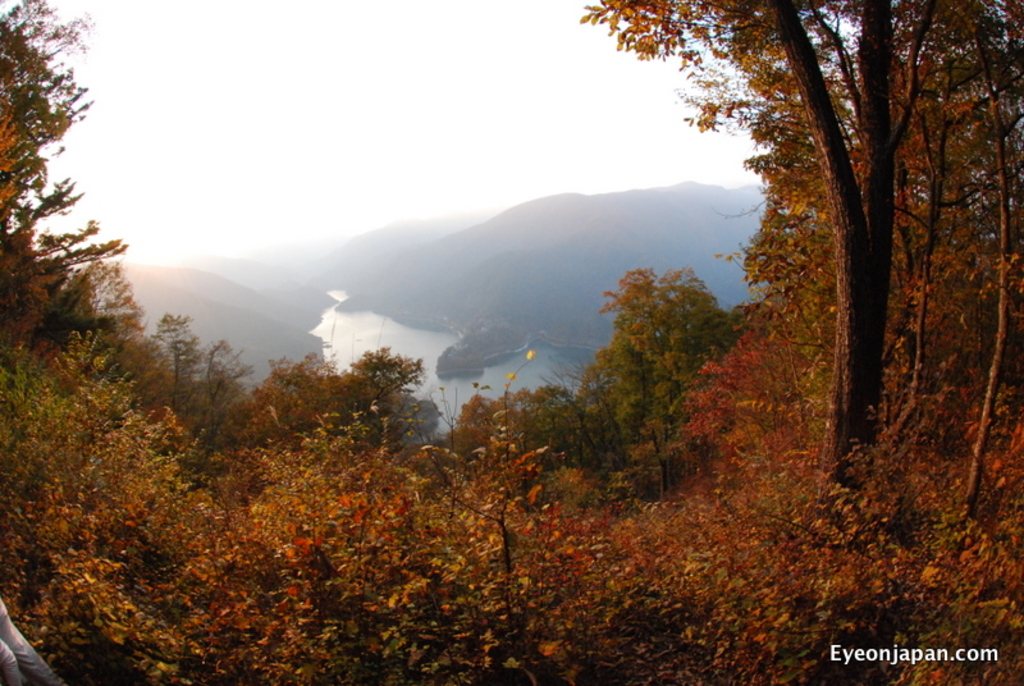Tree: (0, 346, 1022, 684), (584, 0, 1022, 526), (0, 0, 208, 354), (558, 229, 736, 501)
